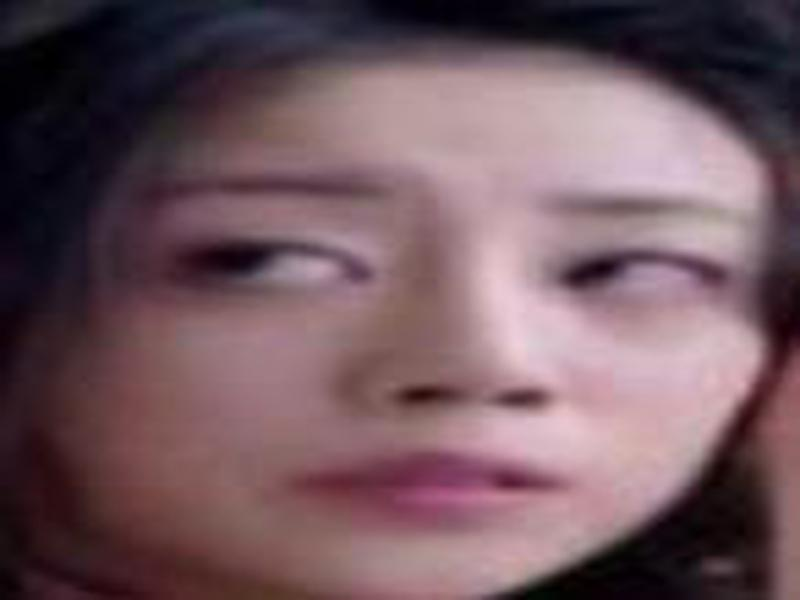without_mask: (63, 38, 759, 600)
